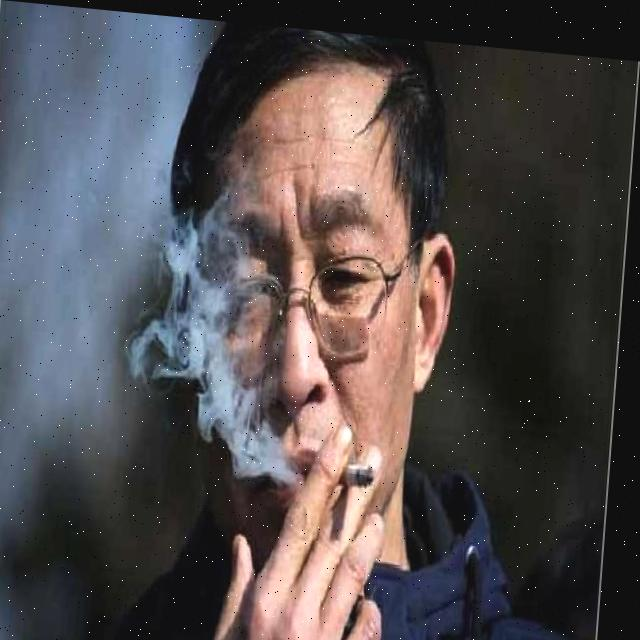cigarette: (340, 456, 383, 479)
